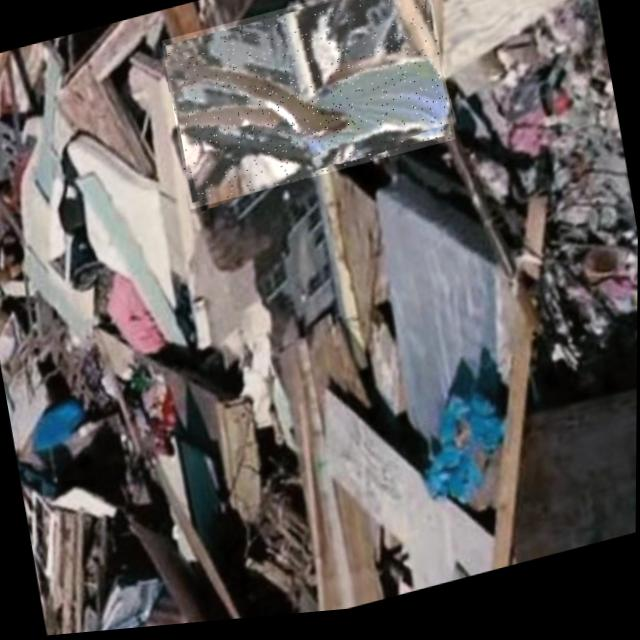Person in Rubble: (160, 0, 456, 214)
